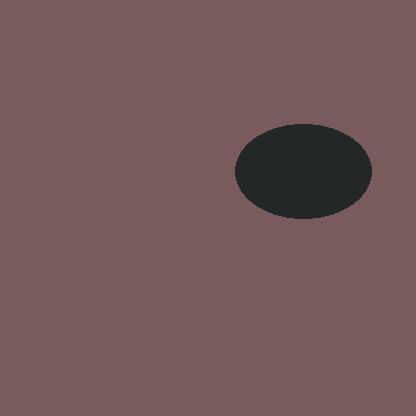pothole: (235, 124, 371, 218)
